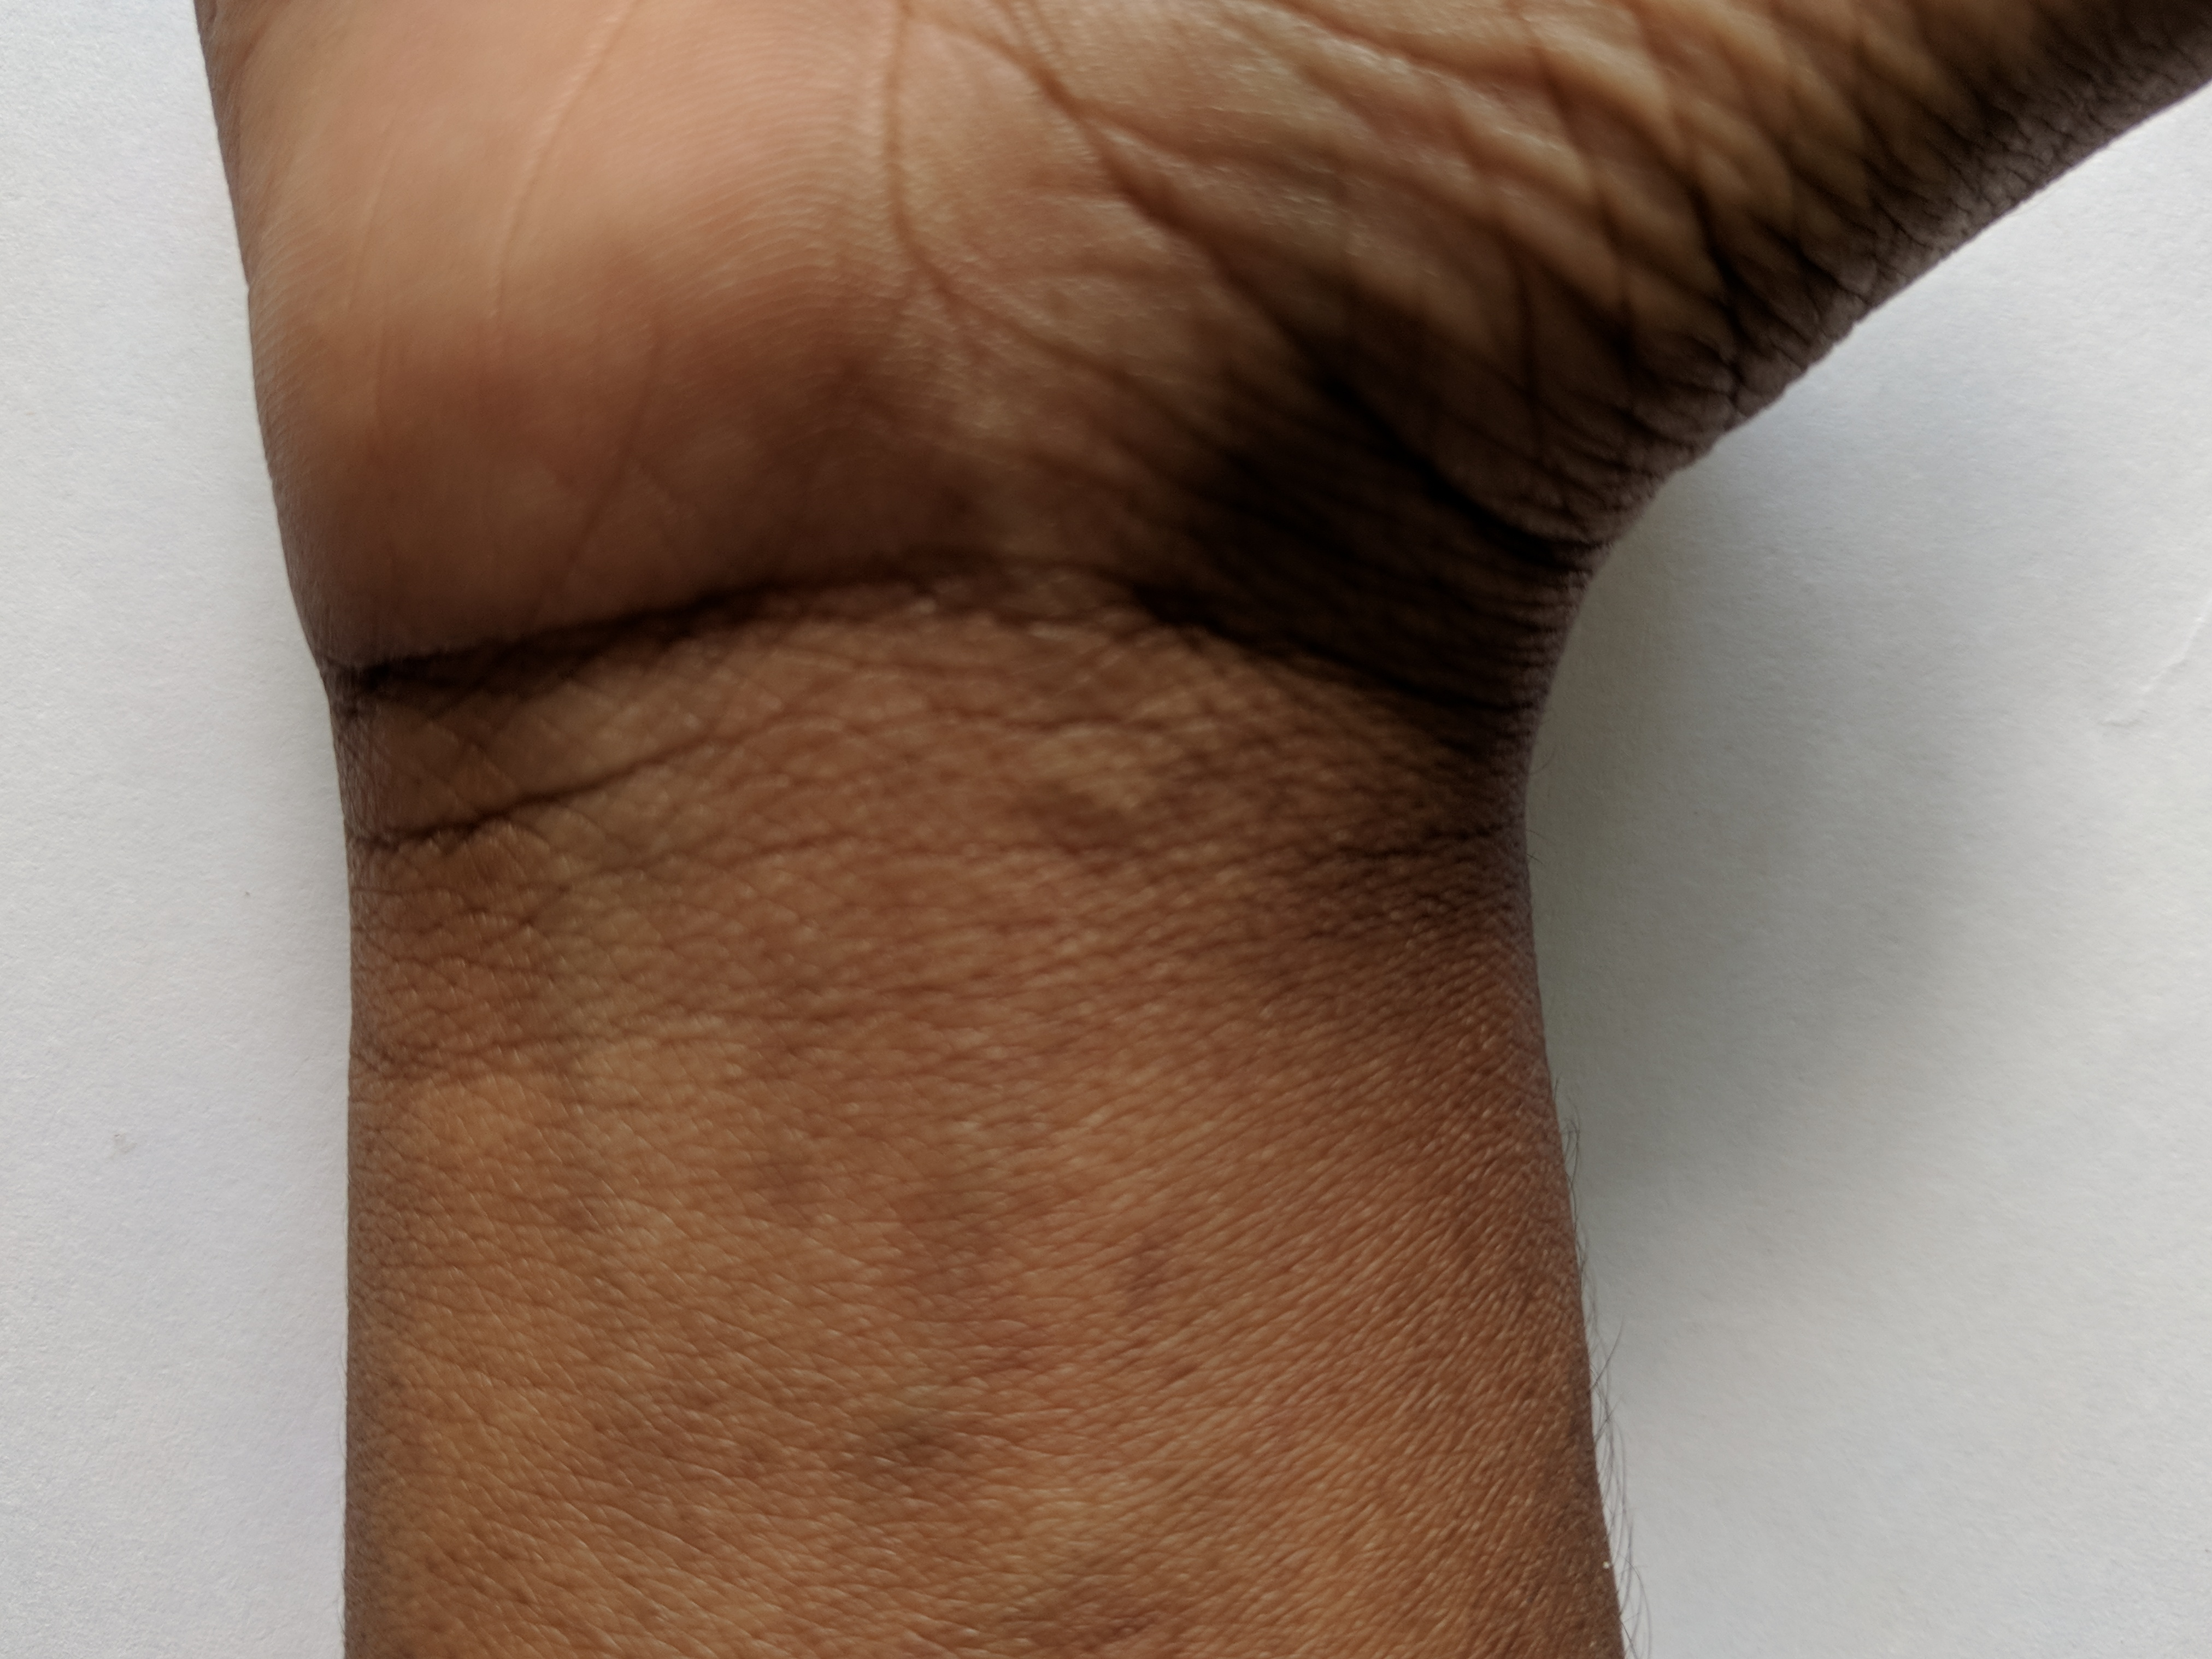righthandwrist: (282, 544, 1629, 995)
